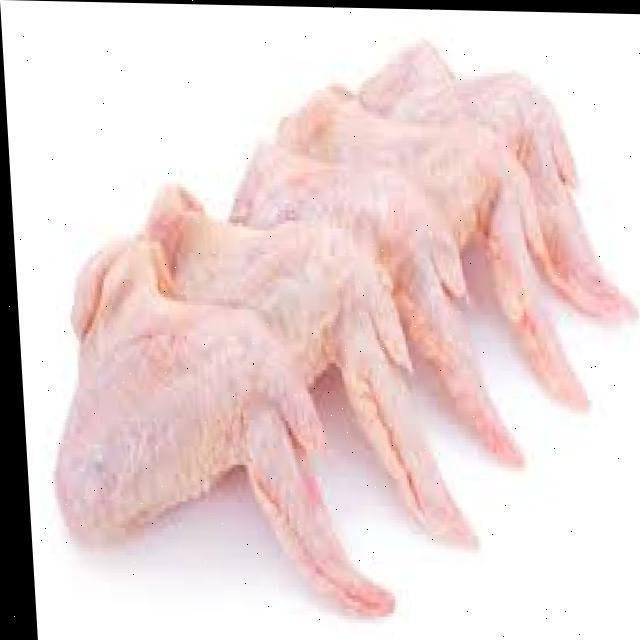wing: (49, 233, 386, 632), (146, 166, 458, 554), (282, 57, 581, 415), (231, 114, 514, 488), (380, 41, 638, 332)
